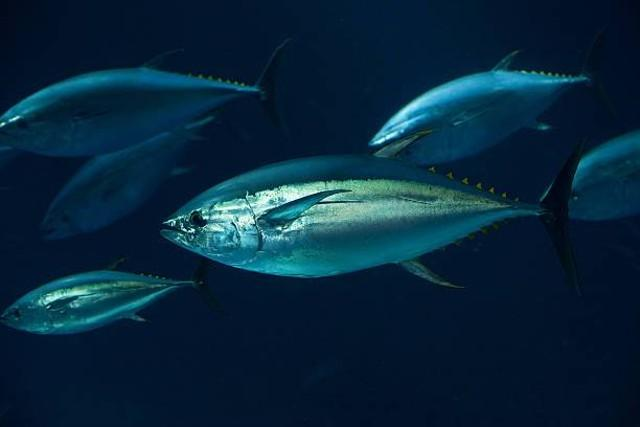Mulut: (149, 208, 193, 251), (33, 214, 66, 252)
Sirip Anal: (396, 250, 470, 302), (166, 113, 218, 145), (522, 107, 554, 141), (120, 308, 154, 329)
Sirip Dada: (258, 179, 356, 229), (41, 288, 91, 320), (69, 100, 115, 128)
Sirip Ekor: (538, 128, 594, 300), (252, 34, 306, 152), (578, 22, 634, 120), (187, 249, 239, 327)
Sirip Punggung: (366, 124, 438, 164), (128, 34, 190, 76), (489, 39, 526, 83), (94, 250, 138, 276)
